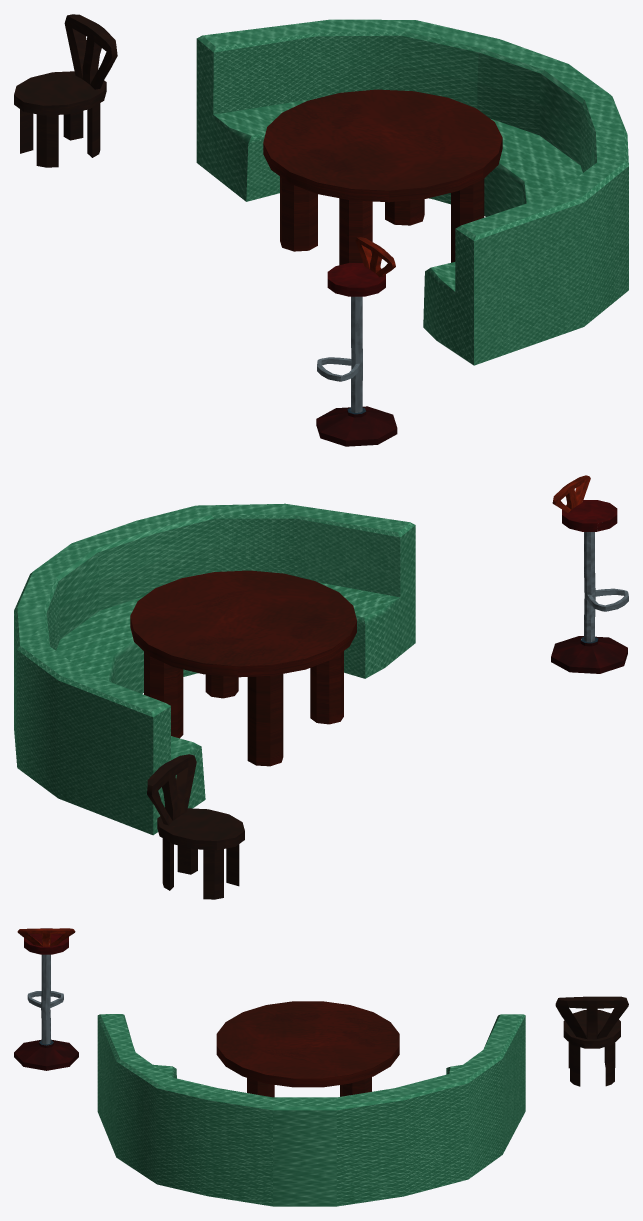
Rendered from MueblesBar.fbx.
The picture shows the model from 3 angles, top to bottom: view 1: azimuth 30°, elevation 25°; view 2: azimuth 150°, elevation 25°; view 3: azimuth 270°, elevation 25°; orthographic projection. The views are drawn at different scales.
Parts seen in each view (by area): view 1: Sofa, Mesa, Sillita, SillaAlta; view 2: Sofa, Mesa, Sillita, SillaAlta; view 3: Sofa, Mesa, SillaAlta, Sillita.
Part boxes in pixels (x1=…): Sofa: x1=196, y1=19, x2=628, y2=365; Mesa: x1=263, y1=89, x2=502, y2=265; Sillita: x1=14, y1=14, x2=117, y2=167; SillaAlta: x1=316, y1=237, x2=397, y2=446; Sofa: x1=14, y1=503, x2=415, y2=835; Mesa: x1=130, y1=570, x2=356, y2=766; Sillita: x1=147, y1=754, x2=244, y2=899; SillaAlta: x1=551, y1=475, x2=628, y2=673; Sofa: x1=97, y1=1014, x2=525, y2=1206; Mesa: x1=216, y1=1001, x2=399, y2=1097; SillaAlta: x1=14, y1=928, x2=78, y2=1070; Sillita: x1=555, y1=996, x2=628, y2=1086.
Bounding box in the file's own units: 29.84 × 11.41 × 46.87.
